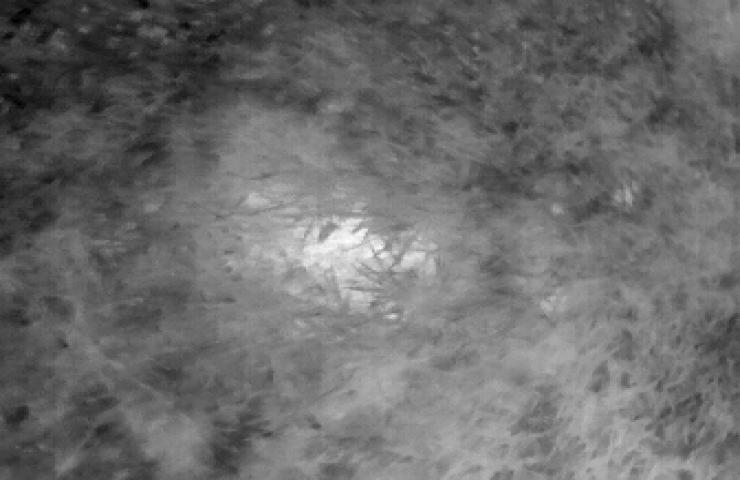landmines: (251, 193, 446, 321)
